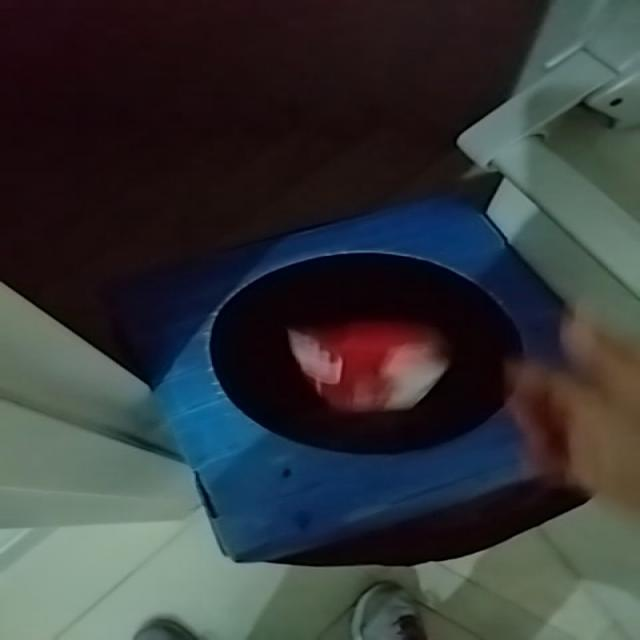bin: (89, 196, 589, 567)
metal: (289, 321, 451, 413)
